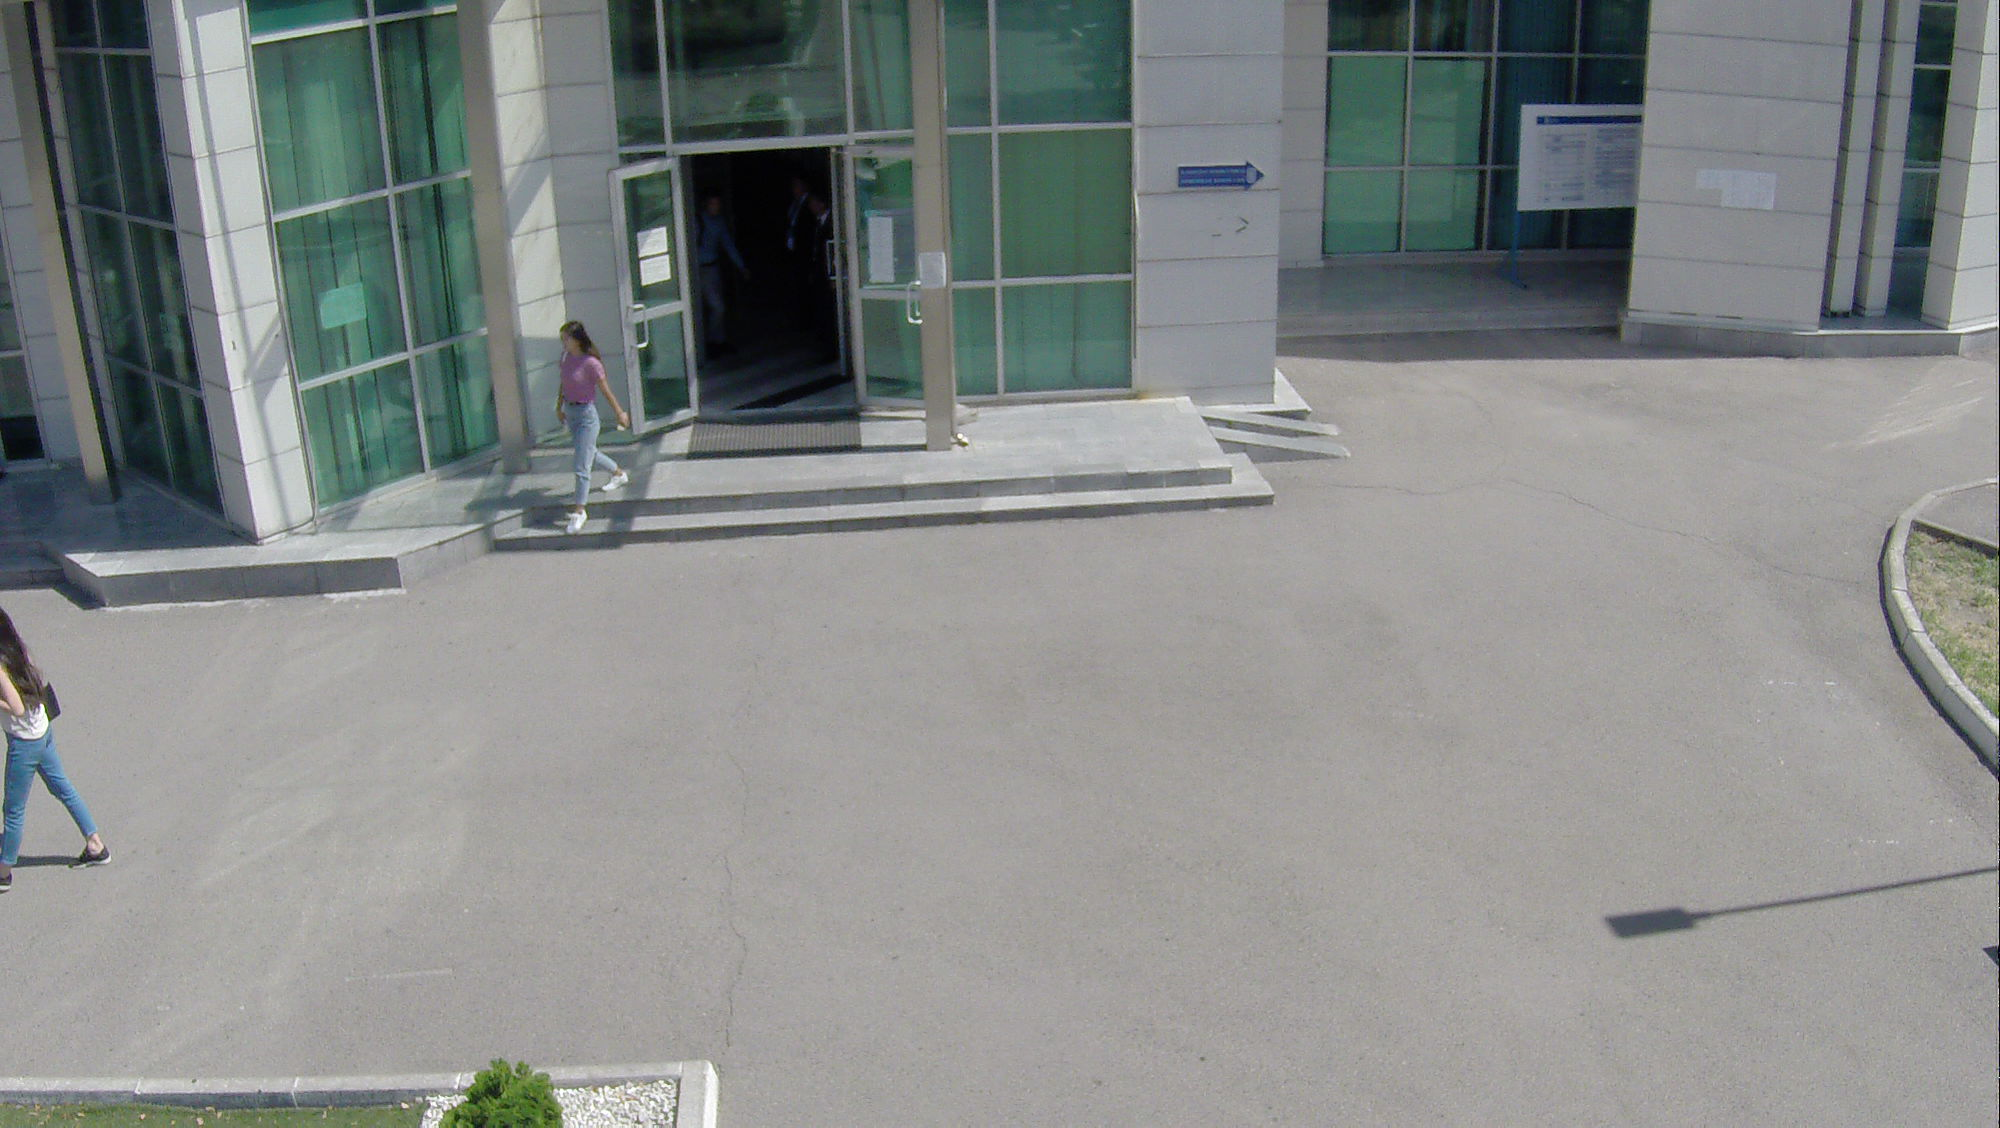person: (1, 603, 114, 912), (526, 312, 639, 558), (666, 185, 753, 364)
